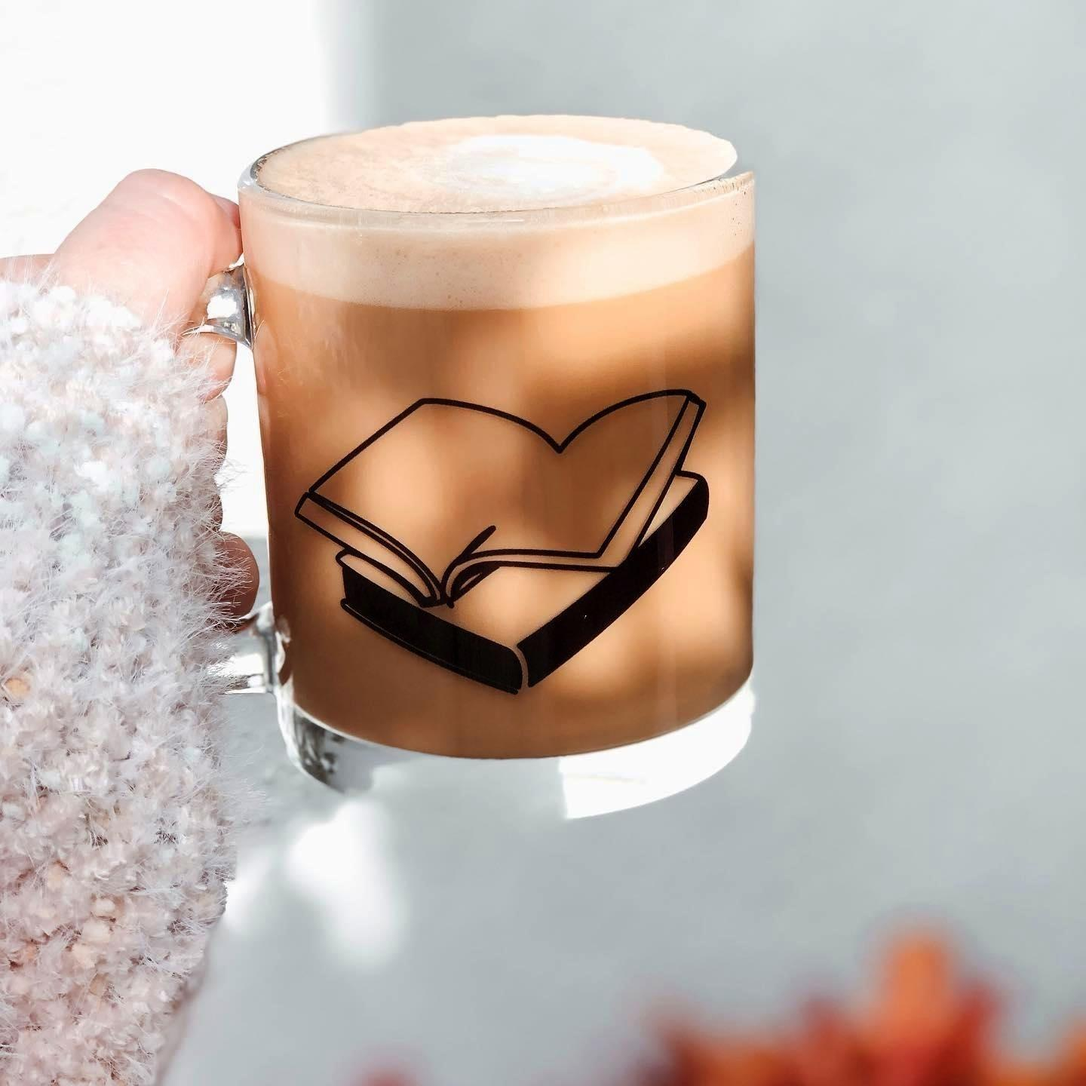glass-mug: (165, 102, 767, 842)
